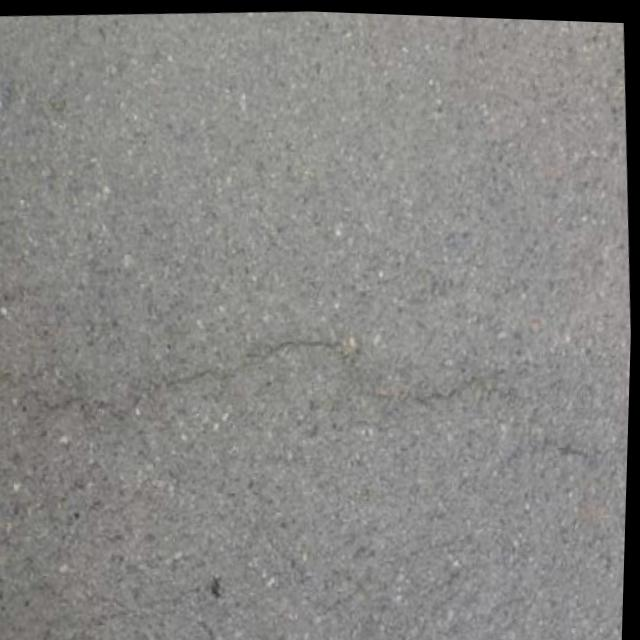Crack: (6, 281, 603, 496)
